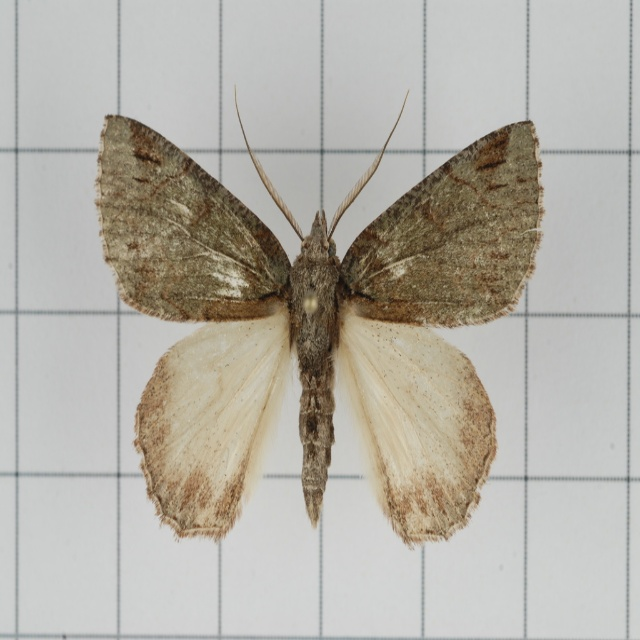Butterfly: (104, 81, 567, 567)
